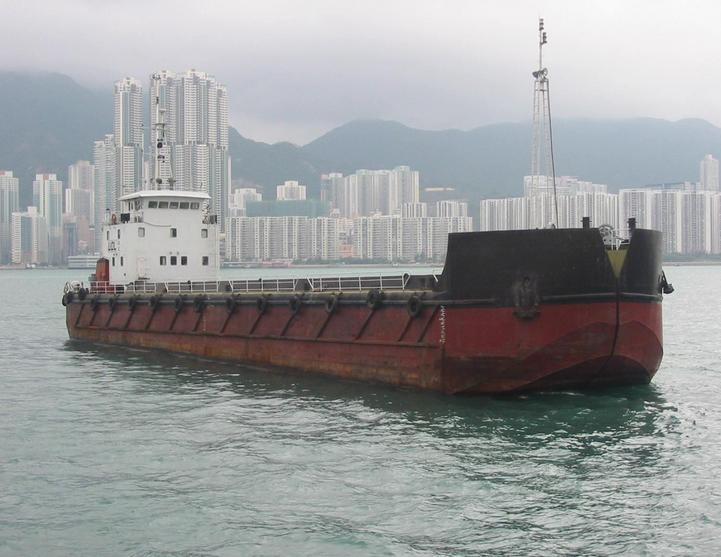Cargoship: (59, 35, 676, 391)
